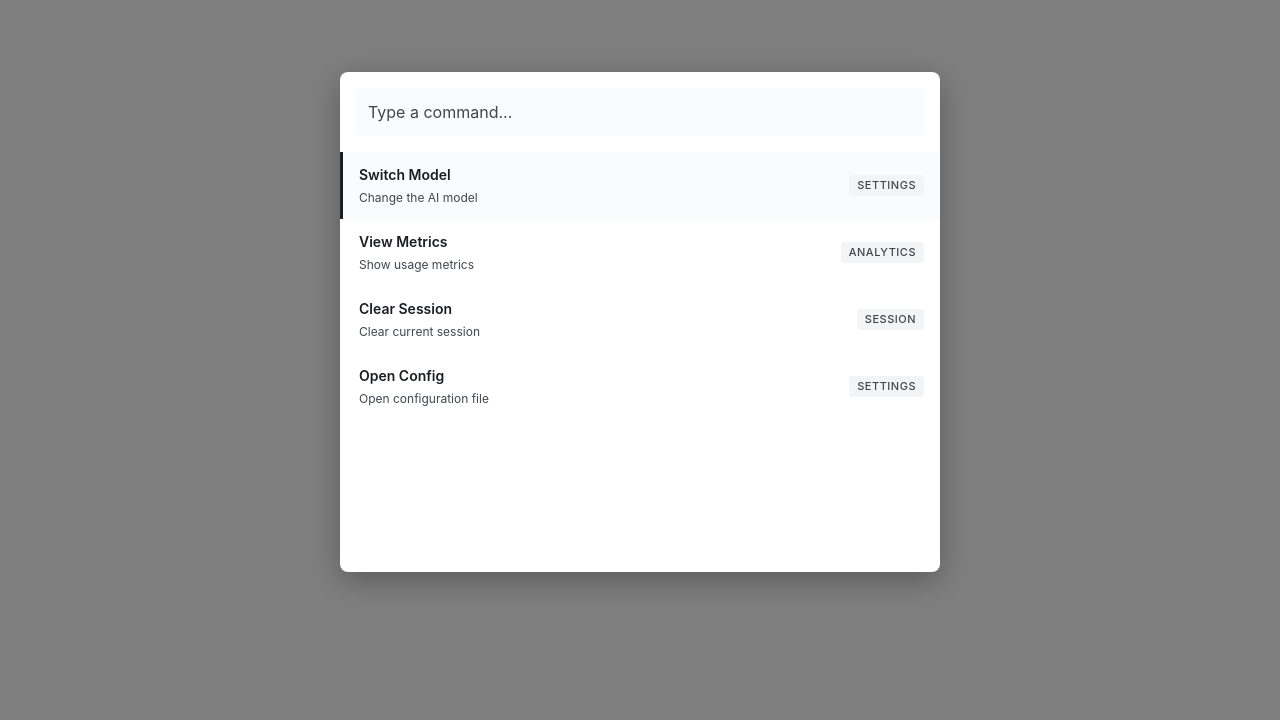
Test: CommandPalette.vue › Search Functionality › should filter commands by name
The width and height of the screenshot is (1280, 720).
In the field with class "search-input": (640, 112) [356, 88, 924, 136], type "Model"
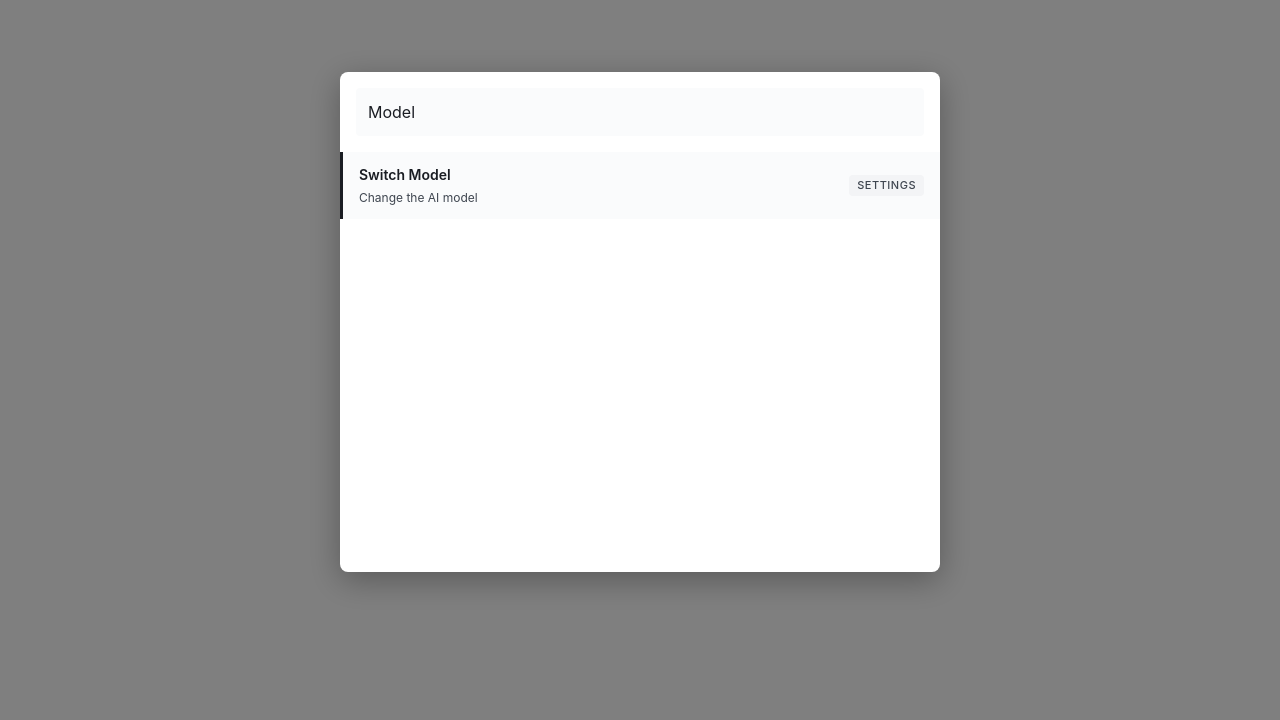
Expected: the text with class "command-name" reads "Switch Model", [359, 166, 451, 183]
Expected: the number of elements with class "command-item" is 1, [340, 152, 940, 219]
